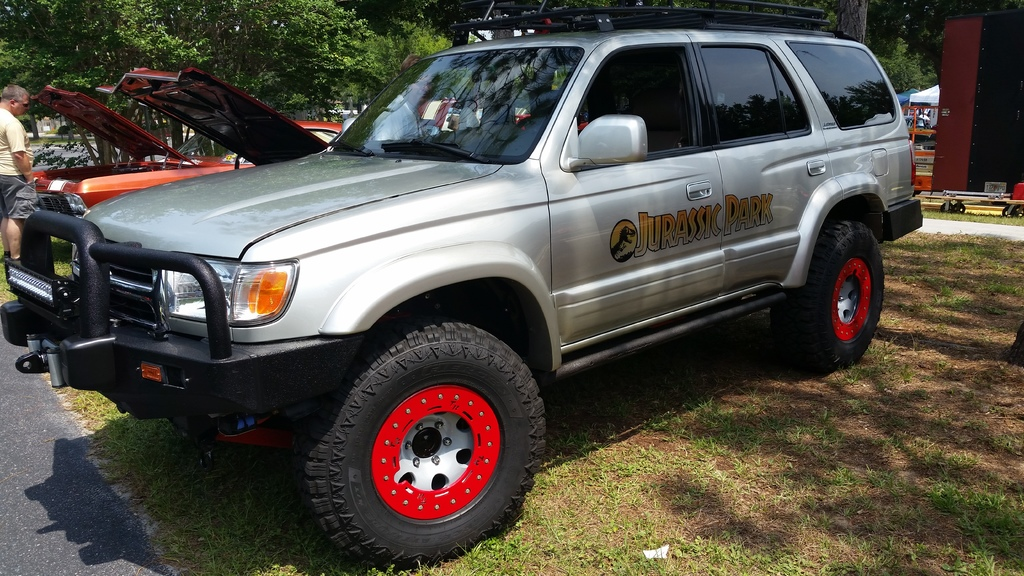Person: (0, 84, 38, 260), (372, 53, 436, 140)
